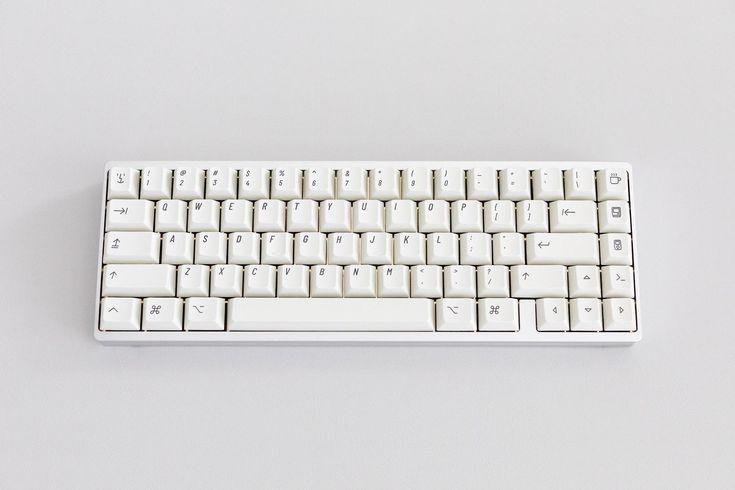keyboard: (93, 159, 642, 346)
